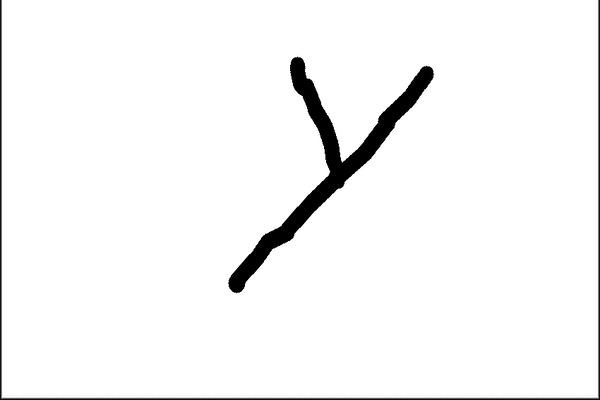Y: (215, 45, 445, 301)
